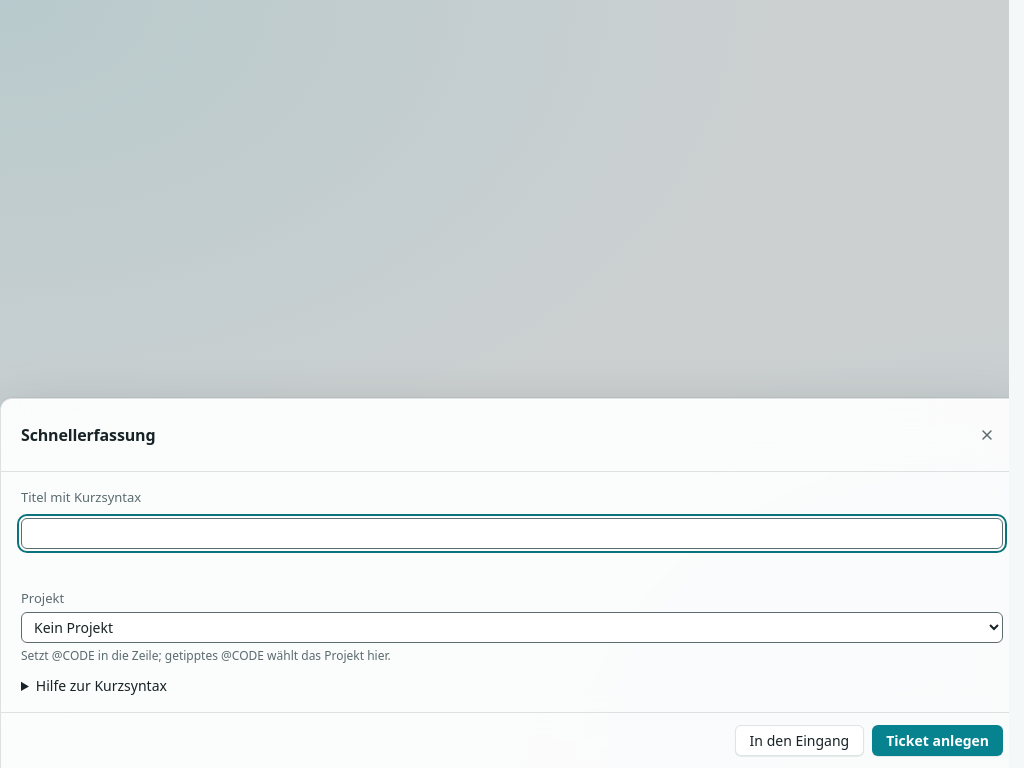
Test: the quick entry as the sheet of "＋" in the phone frame (MO-5) › shows the result right below the line and keeps the line ready for the next one
Step 1. Type "Milch @HAUS" into the field labelled "Titel mit Kurzsyntax" → (512, 533), box [21,518,1003,548]
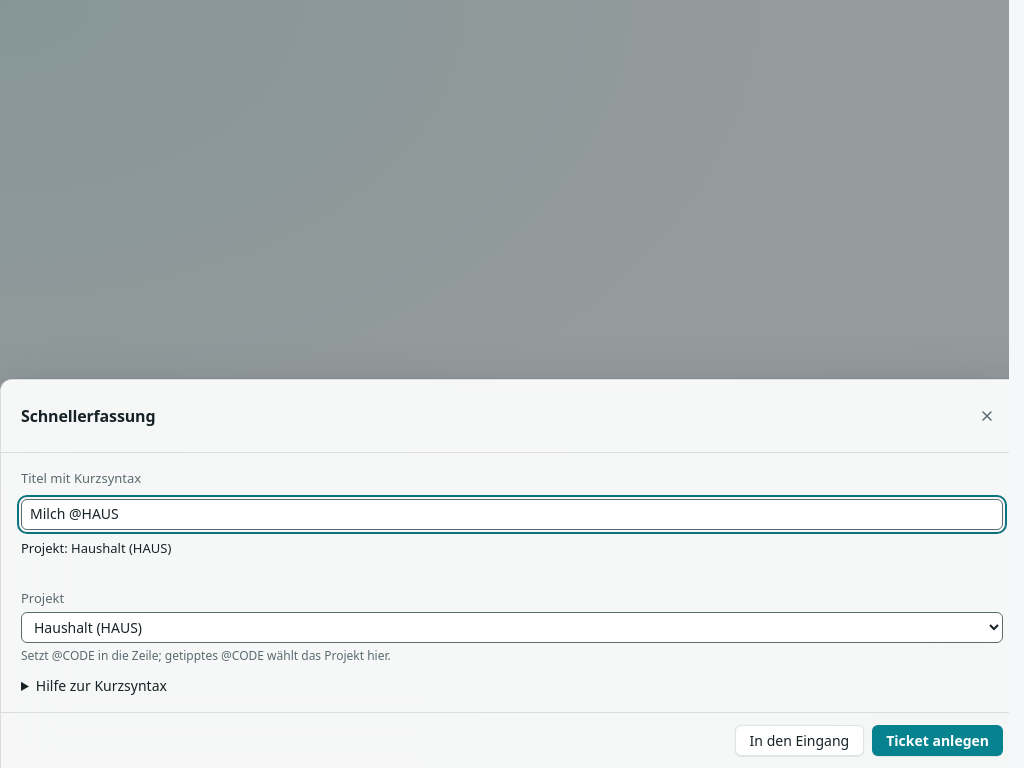
Step 2. Press Enter in the field labelled "Titel mit Kurzsyntax", box [21,498,1003,529]
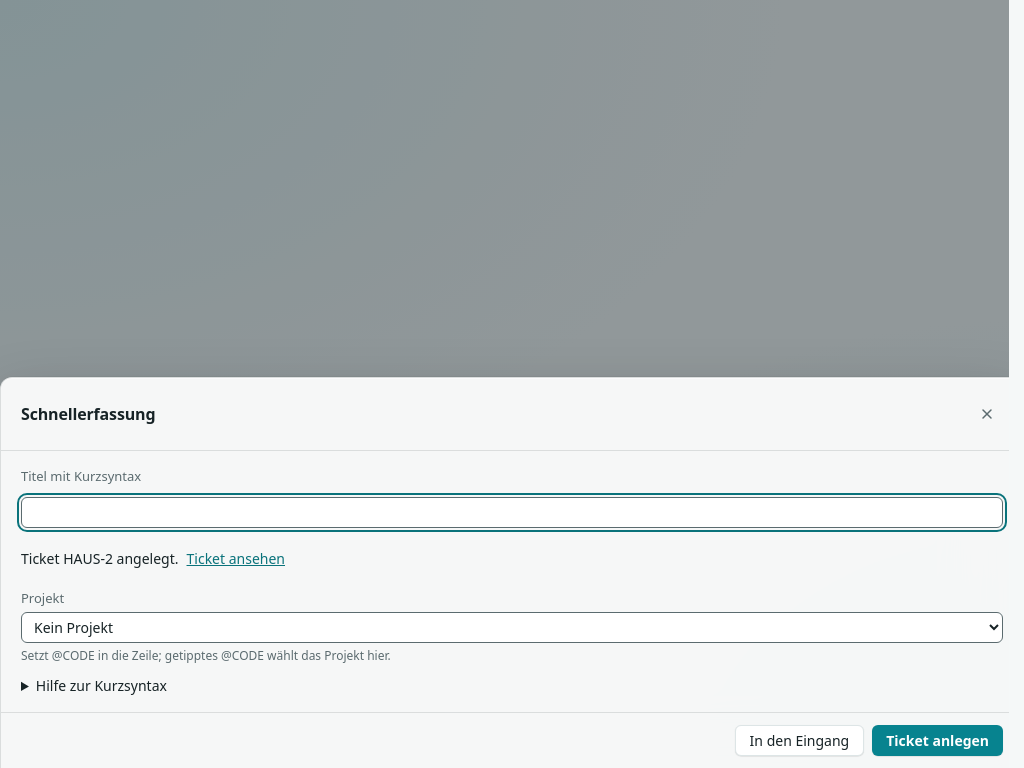
expect the element "Ticket ansehen" shows "Ticket HAUS-2 angelegt.": met, box [21,548,178,568]
expect the field labelled "Titel mit Kurzsyntax" is empty: met
Note: "In den Eingang" without Alt: one tap.
Step 3. Type "Idee" into the field labelled "Titel mit Kurzsyntax" → (512, 512), box [21,496,1003,528]
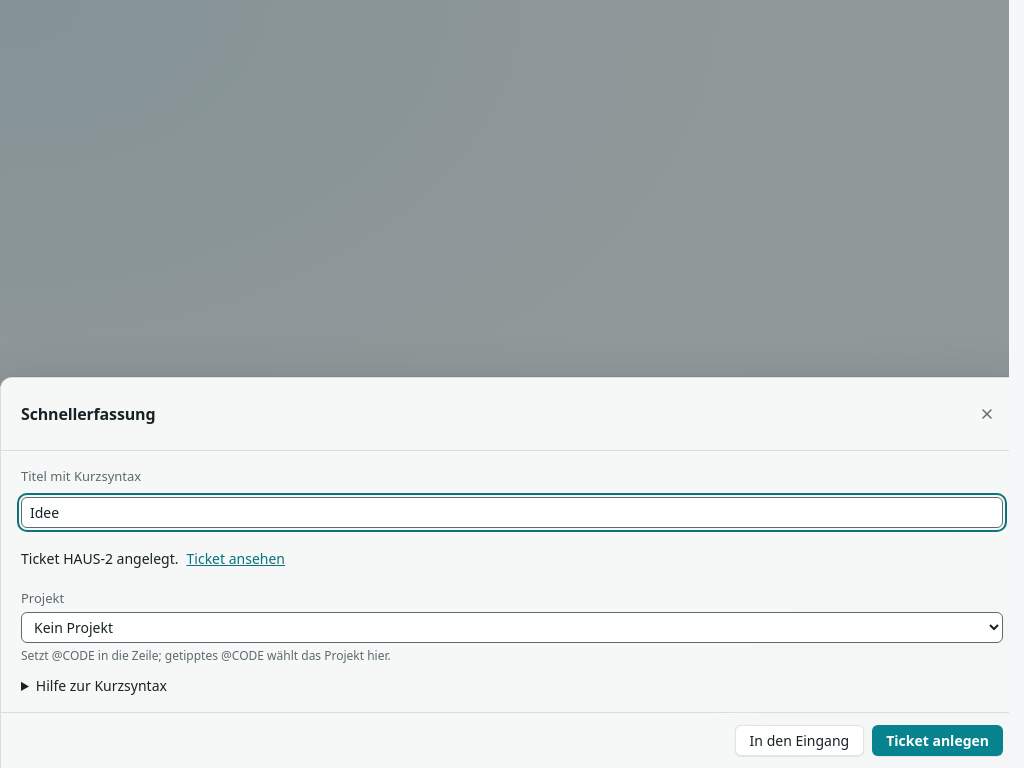
Step 4. Click the button "In den Eingang" → (799, 740), box [735,725,864,756]
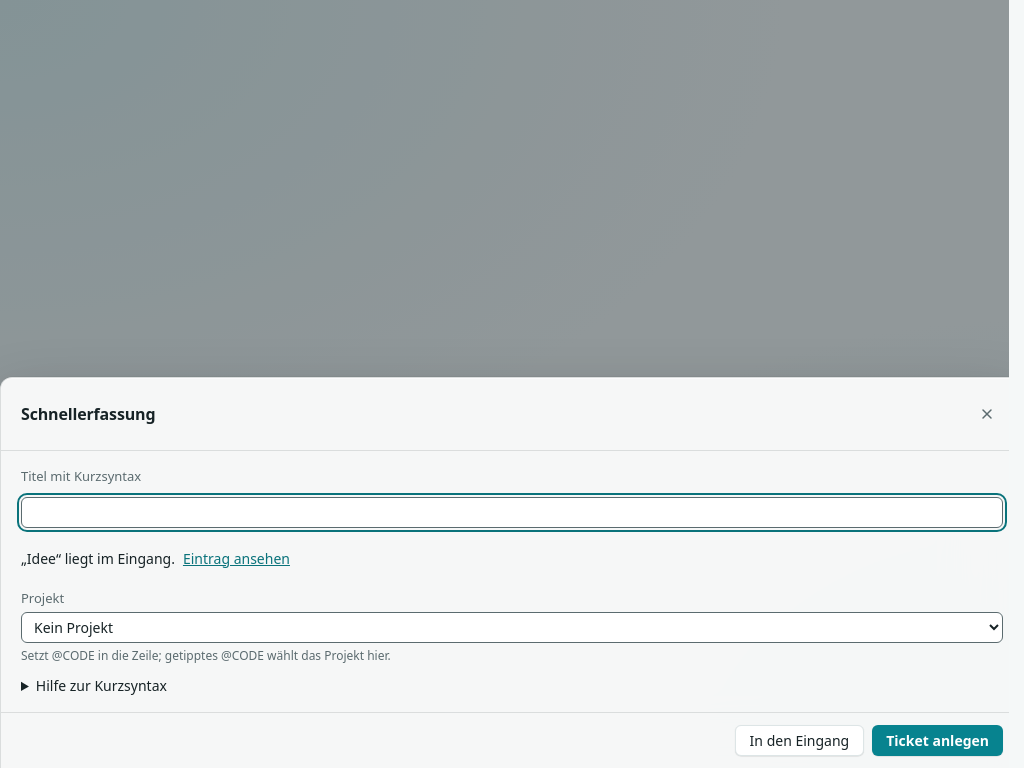
expect the link "Eintrag ansehen" is shown: met, box [183,548,290,568]
expect the field labelled "Titel mit Kurzsyntax" is empty: met, box [21,496,1003,528]
